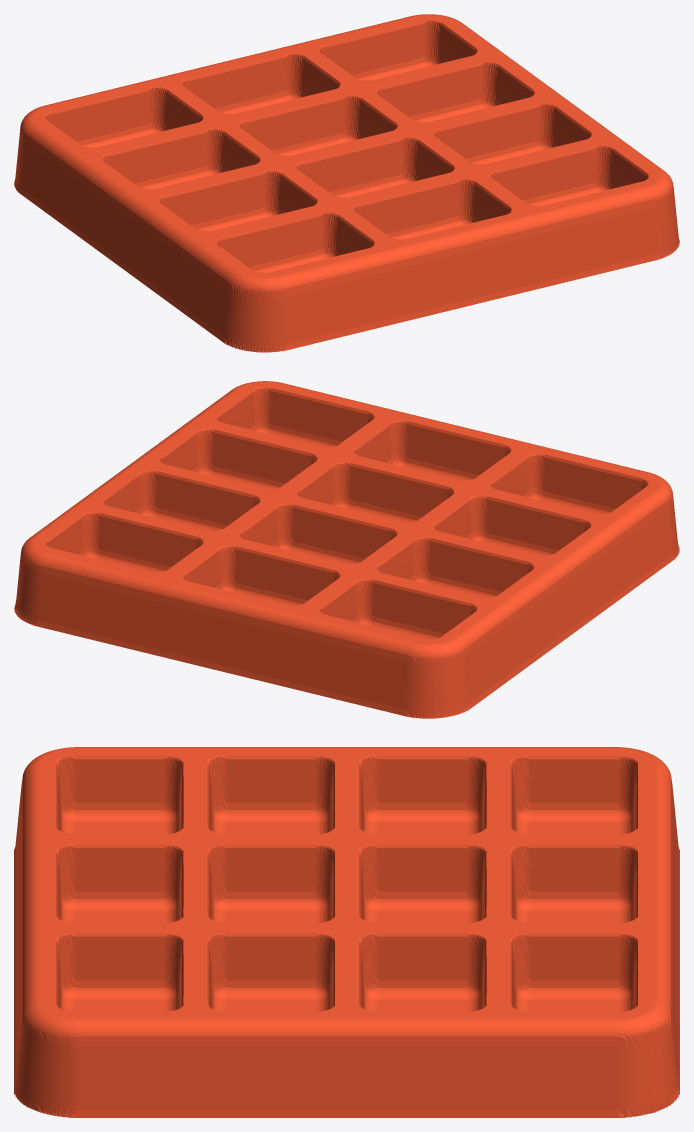
Rendered from mold.glb.
3 renders of one model, top to bottom at view 1: azimuth 30°, elevation 25°; view 2: azimuth 150°, elevation 25°; view 3: azimuth 270°, elevation 25°, orthographic. The views are drawn at different scales.
Visible parts, largest first — view 1: geometry_0; view 2: geometry_0; view 3: geometry_0.
Boxes of the visible parts, x1=… form: geometry_0: x1=14, y1=14, x2=679, y2=352; geometry_0: x1=14, y1=381, x2=679, y2=718; geometry_0: x1=14, y1=747, x2=679, y2=1117.
Bounding box in the file's own units: 0.0963 × 0.0136 × 0.093.
